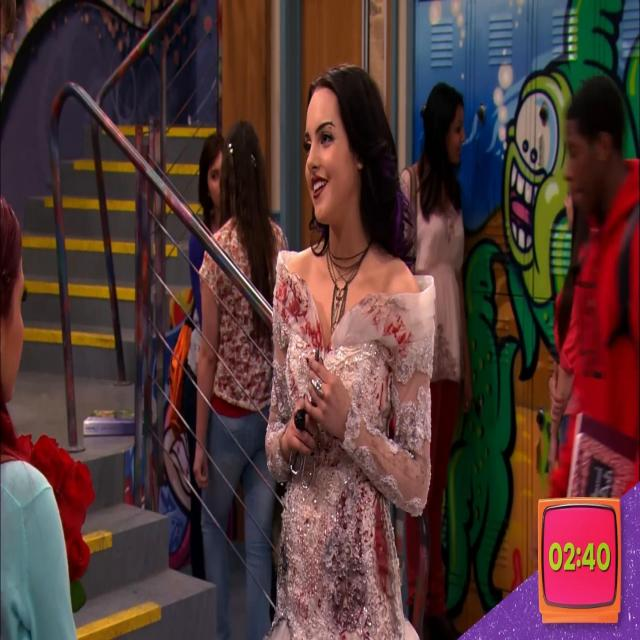scissor: (288, 351, 318, 489)
